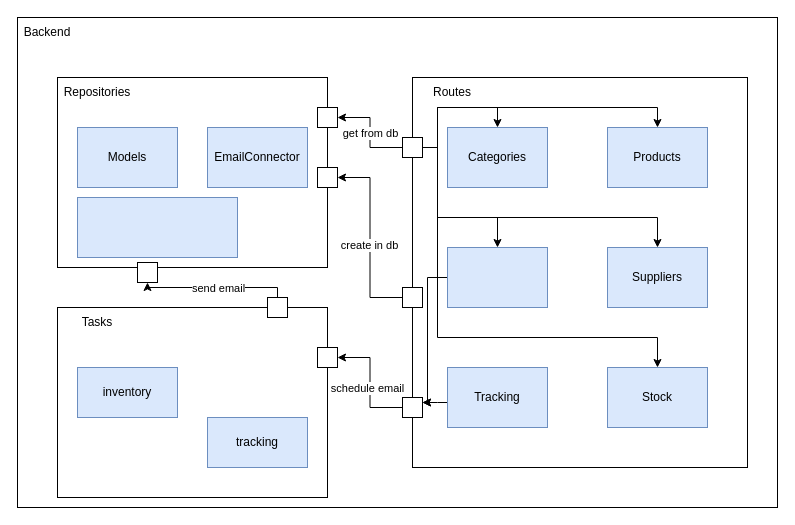
This 795x525 diagram has some shape labels left out. The shapes that lost their labels are listed below. From the top down, each one's centre as x and y in pixels, then its label:
point (157, 227): PostgreSQLDBConnector
point (497, 277): Orders
